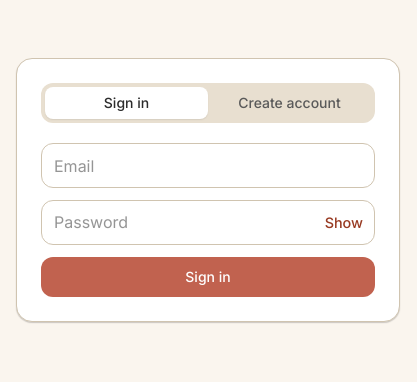
Scenario: SignInPage › shows the friendly error when sign-in fails
Type "a@b.co" into the field labelled "Email" at (208, 166), box [41,143,375,188]
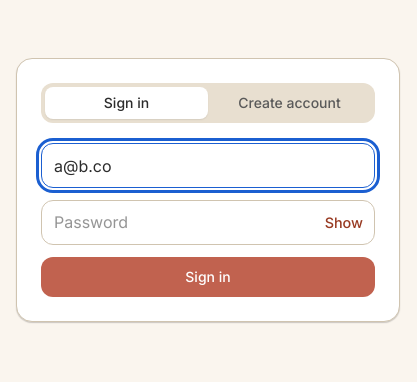
Type "wrong-password" into the password field labelled "Password" at (208, 222), box [41,200,375,245]
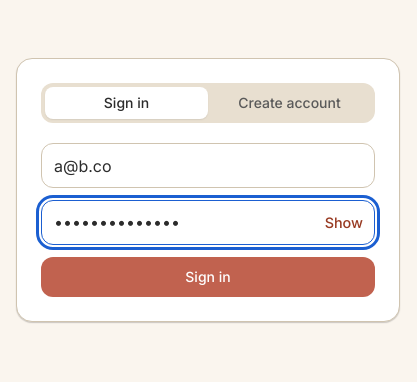
Click the submit button at (208, 277), box [41,257,375,297]
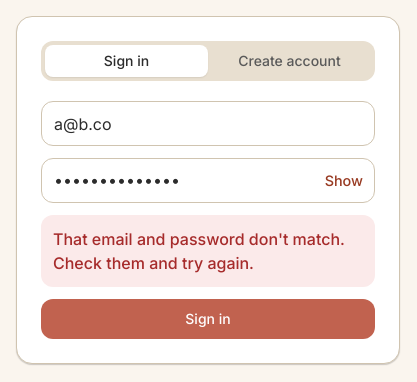
Check: the message shows "don't match", box [53,229,345,273]
